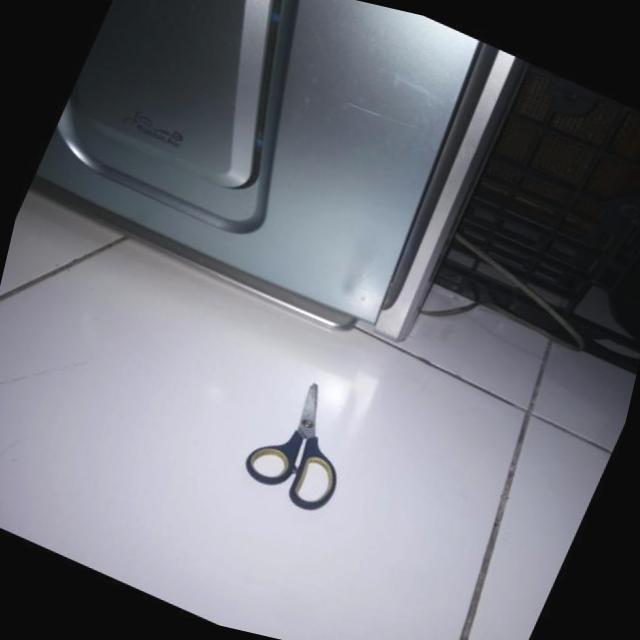scissors: (201, 344, 414, 552)
